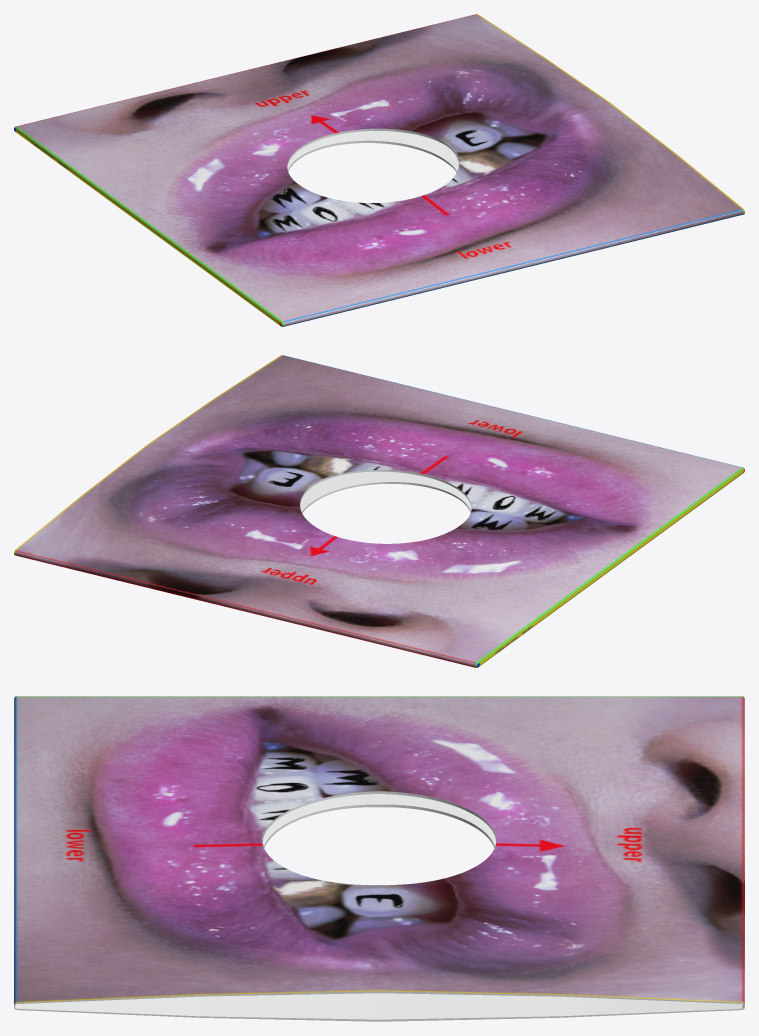
The model's file is sleeve_12_single_holed.dae.
The picture shows the model from 3 angles, top to bottom: view 1: azimuth 30°, elevation 25°; view 2: azimuth 150°, elevation 25°; view 3: azimuth 270°, elevation 25°; orthographic projection. The views are drawn at different scales.
Visible parts, largest first — view 1: sleeve; view 2: sleeve; view 3: sleeve.
Part boxes in pixels (x1,y1,x2,y2): sleeve: (14,14,744,326); sleeve: (14,355,744,667); sleeve: (14,696,744,1021).
Size of the model in its own units: 31.18 by 1.45 by 31.3.
1 material, 1 textured.
